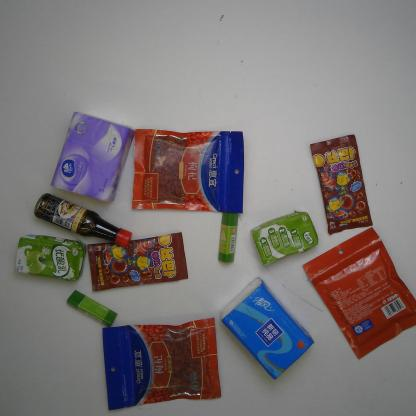Candy: (310, 134, 373, 236), (87, 232, 189, 292)
Dried Fruit: (302, 227, 416, 361), (102, 317, 222, 411), (132, 129, 244, 214)
Milk: (249, 210, 319, 267), (15, 234, 87, 281)
Seasoner: (34, 192, 132, 248)
Stationery: (66, 290, 118, 327), (218, 211, 239, 263)
Tissue: (220, 277, 315, 381), (50, 110, 135, 204)
